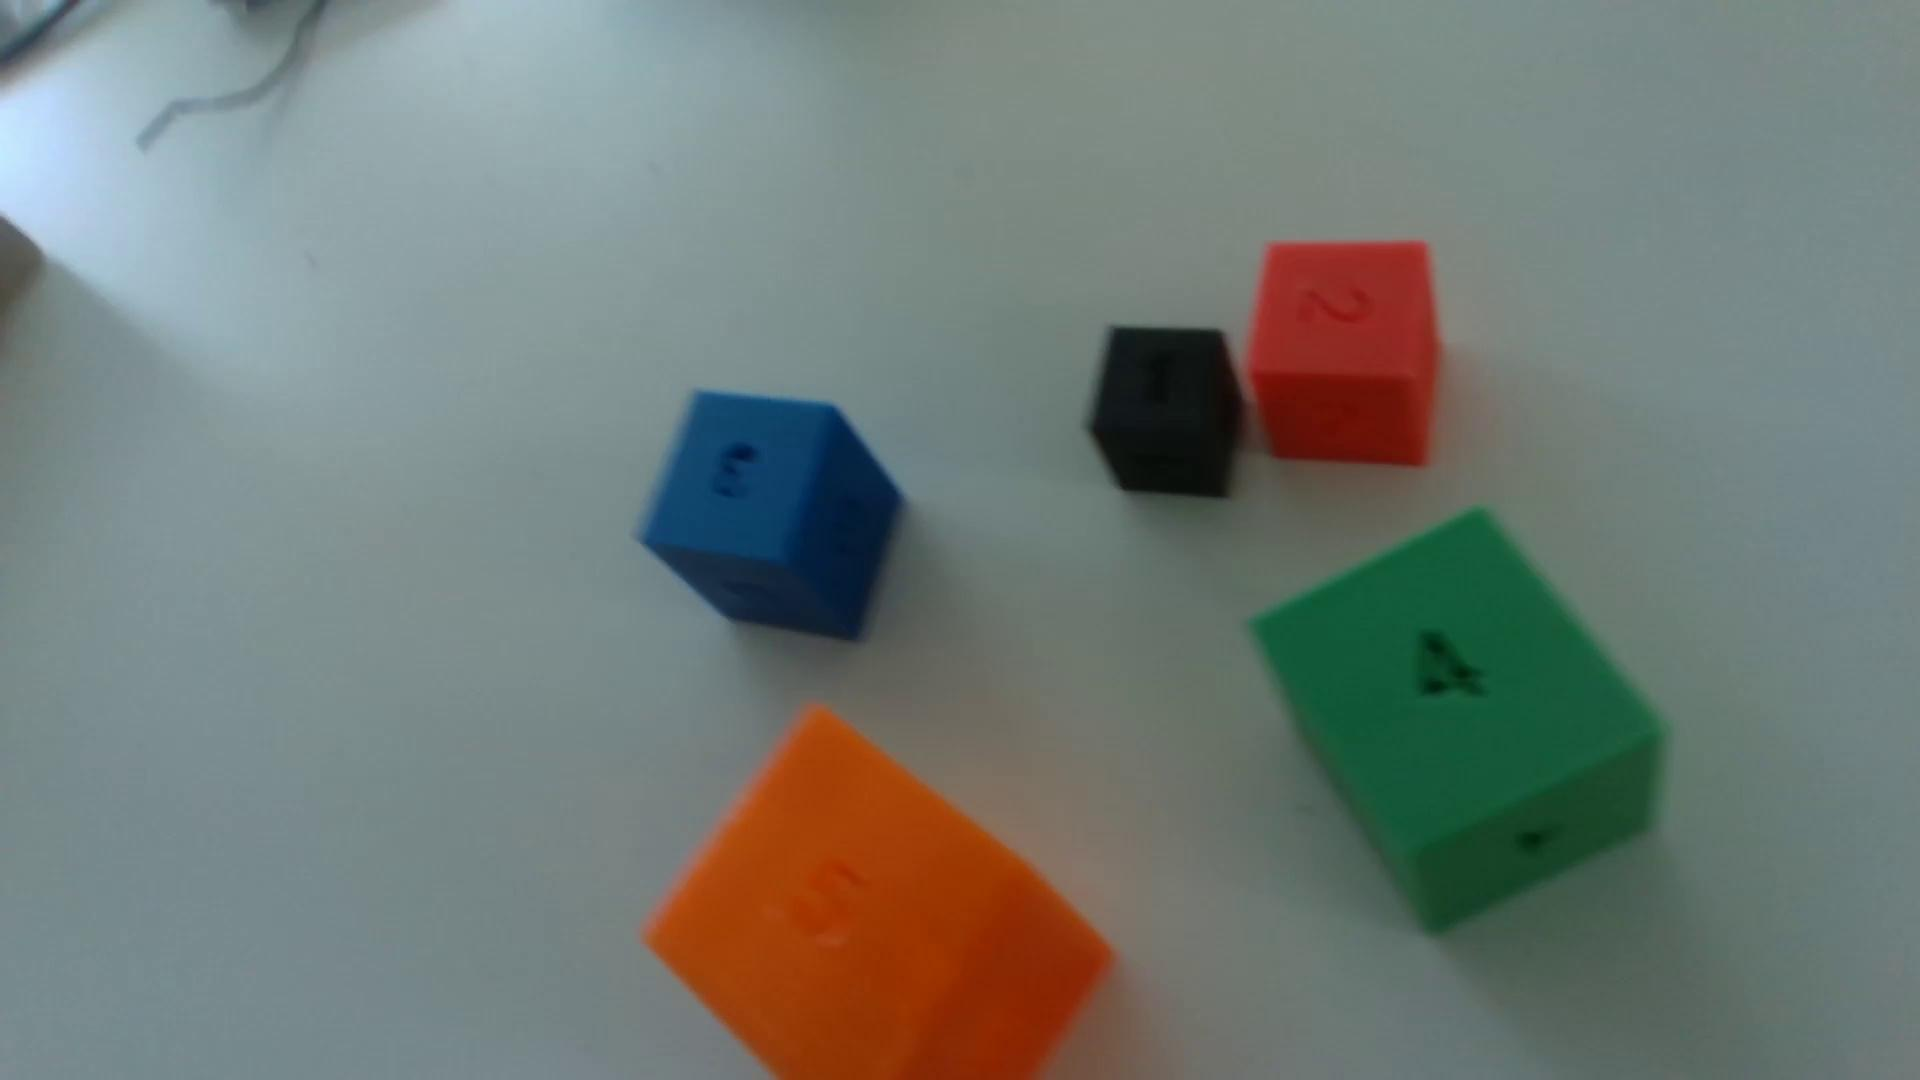black: (1087, 327, 1244, 500)
blue: (640, 392, 902, 641)
green: (1253, 512, 1663, 934)
orange: (645, 711, 1112, 1080)
red: (1245, 243, 1440, 468)
